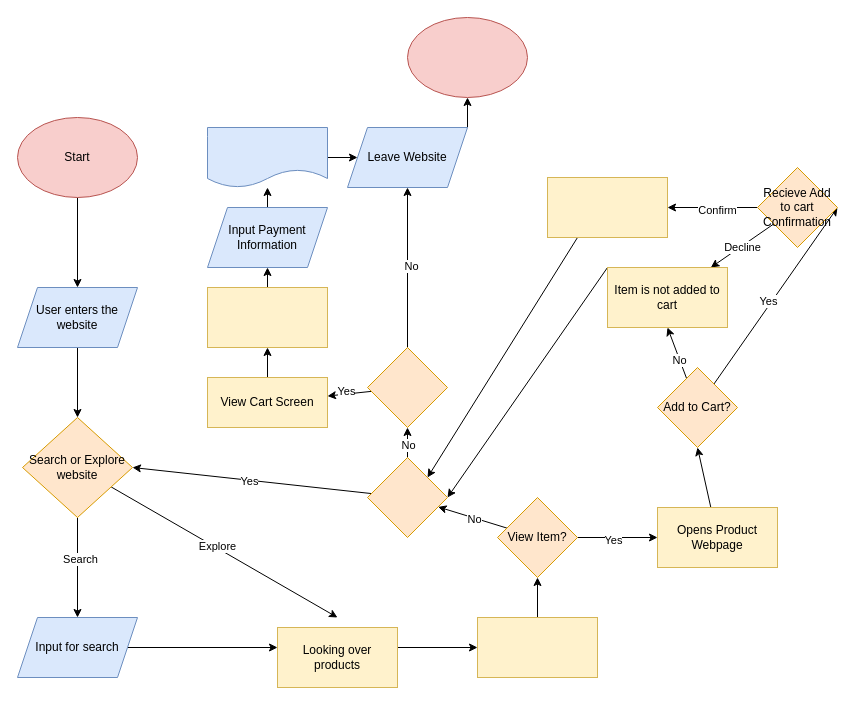
The diagram is 863 pixels wide and 705 high, and some of its shapes have lost their labels. The centre of each missing label's shape, as x and y in pixels:
Checkout?: point 407,387
Continue Shopping?: point 407,497
End: point 467,57
Found a specific Product: point 537,647
Item is added to cart: point 607,207
Recieve Order Confirmation and Email: point 267,157
View Payment Screen: point 267,317
